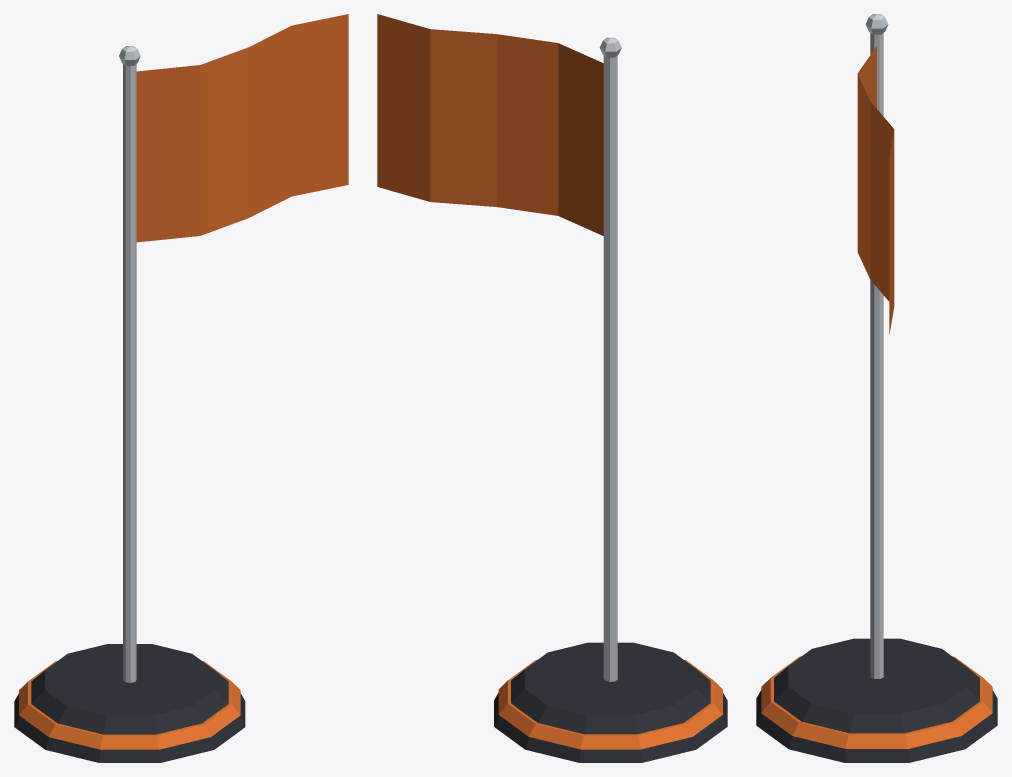
Rendered from flag_orange.glb.
3 views of the same model, side by side, from view 1: azimuth 30°, elevation 25°; view 2: azimuth 150°, elevation 25°; view 3: azimuth 270°, elevation 25° (orthographic). The views are drawn at different scales.
Parts seen in each view (by area): view 1: flag_orange; view 2: flag_orange; view 3: flag_orange.
Part boxes in pixels (box(x1,y1,x2,y2)): flag_orange: box(14, 14, 348, 762); flag_orange: box(377, 14, 727, 762); flag_orange: box(756, 14, 997, 762).
Size of the model in its own units: 1.19 by 2.35 by 0.7341.
